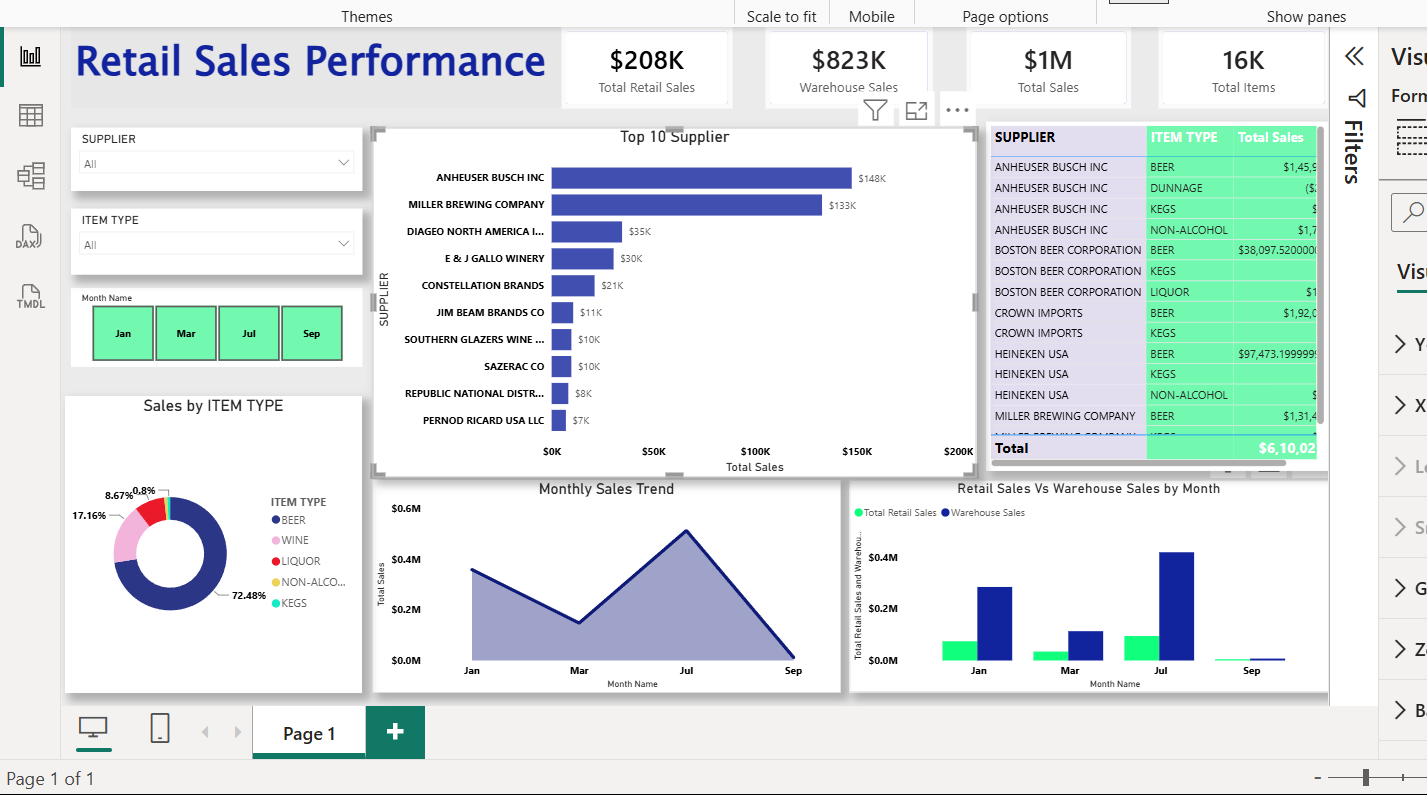

The page's visual inventory and layout, read from the dashboard file:
{"tool":"powerbi","page":{"name":"Page 1","canvas":[1530,820],"ordinal":0},"visuals":[{"type":"textbox","box":[10,0,592.5,97.5],"z":0},{"type":"cardVisual","fields":{"Data":["DAX.Total Warehouse Sales"]},"box":[850,0,201.7,98.3],"z":1000},{"type":"cardVisual","fields":{"Data":["DAX.Total Retail Sales"]},"box":[603.3,0,206.7,98.3],"z":2000},{"type":"cardVisual","fields":{"Data":["DAX.Total Items"]},"box":[1323.3,0,206.7,98.3],"z":3000},{"type":"cardVisual","fields":{"Data":["DAX.Total Sales"]},"box":[1091.7,0,198.3,98.3],"z":4000},{"type":"cardVisual","fields":{"Data":["DAX.Total Suppliers"]},"box":[1765,0,235,157.5],"z":6000},{"type":"cardVisual","fields":{"Data":["DAX.Total Retail Sales"]},"box":[2030,0,235,157.5],"z":7000},{"type":"lineChart","title":"Monthly Sales Trend","fields":{"Y":["DAX.Total Sales"],"Category":["Retail_Sales_Cleaned.Month Name"]},"box":[375,546.7,565,256.7],"z":7001},{"type":"clusteredColumnChart","title":"Retail Sales Vs Warehouse Sales by Month","fields":{"Y":["DAX.Total Retail Sales","DAX.Warehouse Sales"],"Category":["Retail_Sales_Cleaned.Month Name"]},"box":[951.7,546.7,578.3,256.7],"z":7002},{"type":"barChart","title":"Top 10 Supplier","fields":{"Y":["DAX.Total Sales"],"Category":["Retail_Sales_Cleaned.SUPPLIER"]},"box":[375,113.3,730,421.7],"z":7003},{"type":"donutChart","title":" Sales by ITEM TYPE","fields":{"Category":["Retail_Sales_Cleaned.ITEM TYPE"],"Y":["DAX.Total Sales"]},"box":[3.3,445,358.3,358.3],"z":7004},{"type":"tableEx","fields":{"Values":["Retail_Sales_Cleaned.SUPPLIER","Retail_Sales_Cleaned.ITEM TYPE","DAX.Total Sales"]},"box":[1116.7,113.3,413.3,421.7],"z":7005},{"type":"slicer","fields":{"Values":["Retail_Sales_Cleaned.Month Name"]},"box":[10,315,351.7,95],"z":7006},{"type":"slicer","fields":{"Values":["Retail_Sales_Cleaned.SUPPLIER"]},"box":[10,121.7,351.7,76.7],"z":7007},{"type":"slicer","fields":{"Values":["Retail_Sales_Cleaned.ITEM TYPE"]},"box":[10,218.3,351.7,80],"z":7008}]}

Visuals, with their boxes on the page's 1530x820 design canvas (x1, y1, x2, y2). These are canvas units, not pixel positions in the 1427x795 screenshot, which may show the page scaled, cropped or inside an application window:
textbox: detection(10, 0, 602, 98)
cardVisual - DAX.Total Warehouse Sales: detection(850, 0, 1052, 98)
cardVisual - DAX.Total Retail Sales: detection(603, 0, 810, 98)
cardVisual - DAX.Total Items: detection(1323, 0, 1530, 98)
cardVisual - DAX.Total Sales: detection(1092, 0, 1290, 98)
cardVisual - DAX.Total Suppliers: detection(1765, 0, 2000, 158)
cardVisual - DAX.Total Retail Sales: detection(2030, 0, 2265, 158)
"Monthly Sales Trend" lineChart: detection(375, 547, 940, 803)
"Retail Sales Vs Warehouse Sales by Month" clusteredColumnChart: detection(952, 547, 1530, 803)
"Top 10 Supplier" barChart: detection(375, 113, 1105, 535)
" Sales by ITEM TYPE" donutChart: detection(3, 445, 362, 803)
tableEx - Retail_Sales_Cleaned.SUPPLIER x Retail_Sales_Cleaned.ITEM TYPE: detection(1117, 113, 1530, 535)
slicer - Retail_Sales_Cleaned.Month Name: detection(10, 315, 362, 410)
slicer - Retail_Sales_Cleaned.SUPPLIER: detection(10, 122, 362, 198)
slicer - Retail_Sales_Cleaned.ITEM TYPE: detection(10, 218, 362, 298)
